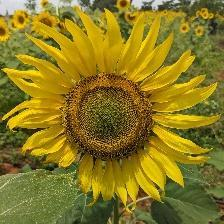sunflower: (1, 8, 224, 213)
